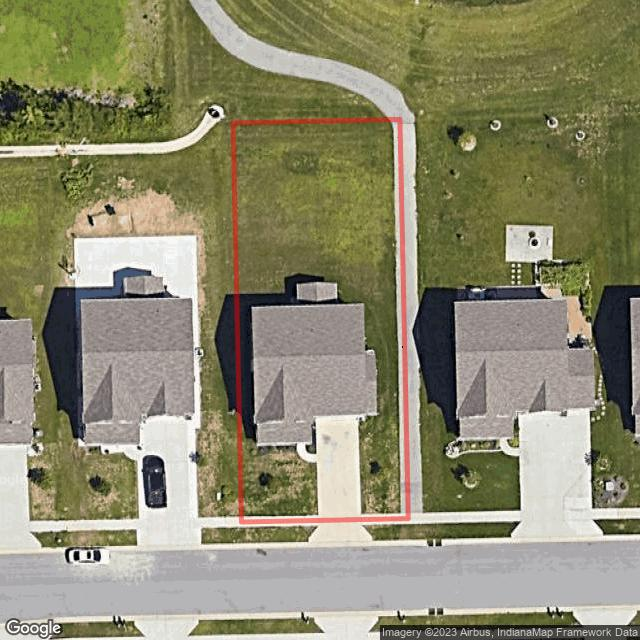Driveway: (315, 415, 361, 518)
Extra Driveway: (308, 522, 373, 542)
Extra Lawn: (239, 526, 318, 544), (361, 524, 411, 541), (269, 526, 276, 528)
Extra Sidewalk: (239, 523, 319, 527), (361, 520, 411, 525)
House: (251, 282, 376, 446)
Sidewalk: (362, 122, 405, 517), (297, 442, 316, 463), (244, 516, 318, 519)
